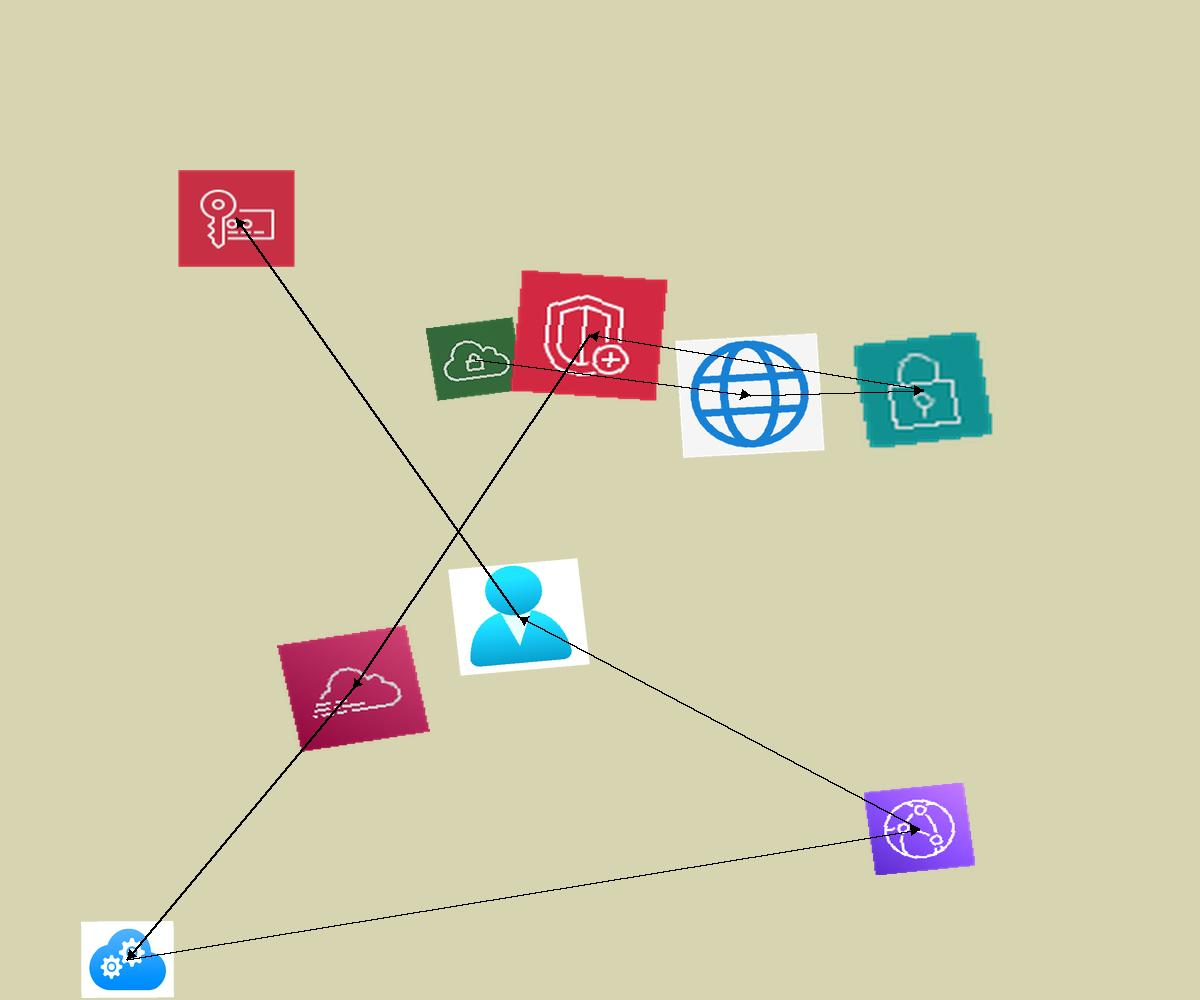AWS-CloudFront: (863, 782, 976, 876)
AWS-CloudTrail: (277, 625, 430, 752)
AWS-Key-Management-Service: (177, 169, 296, 268)
AWS-Private-subnet: (851, 330, 995, 450)
AWS-Private_vpc: (425, 317, 525, 401)
AWS-Shield: (509, 269, 669, 402)
Azure_cloud_services: (81, 921, 174, 998)
Azure_http: (675, 333, 825, 458)
Azure_users: (448, 558, 590, 676)
